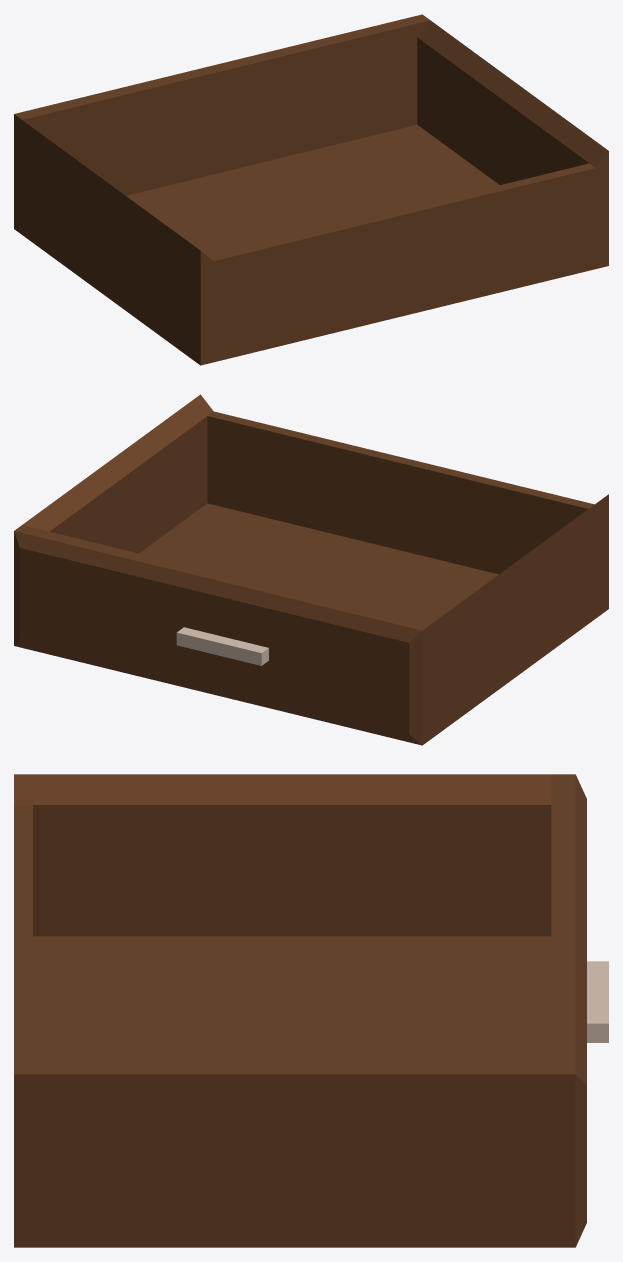
File: Large Dresser Left Top Drawer.fbx
3 renders of one model, top to bottom at view 1: azimuth 30°, elevation 25°; view 2: azimuth 150°, elevation 25°; view 3: azimuth 270°, elevation 25°, orthographic. The views are drawn at different scales.
Visible parts, largest first — view 1: Left; view 2: Left; view 3: Left.
Boxes of the visible parts, <box> form: Left: <box>14,14,608,365</box>; Left: <box>14,394,608,745</box>; Left: <box>14,774,608,1247</box>.
Bounding box in the file's own units: 350 × 94.22 × 294.
